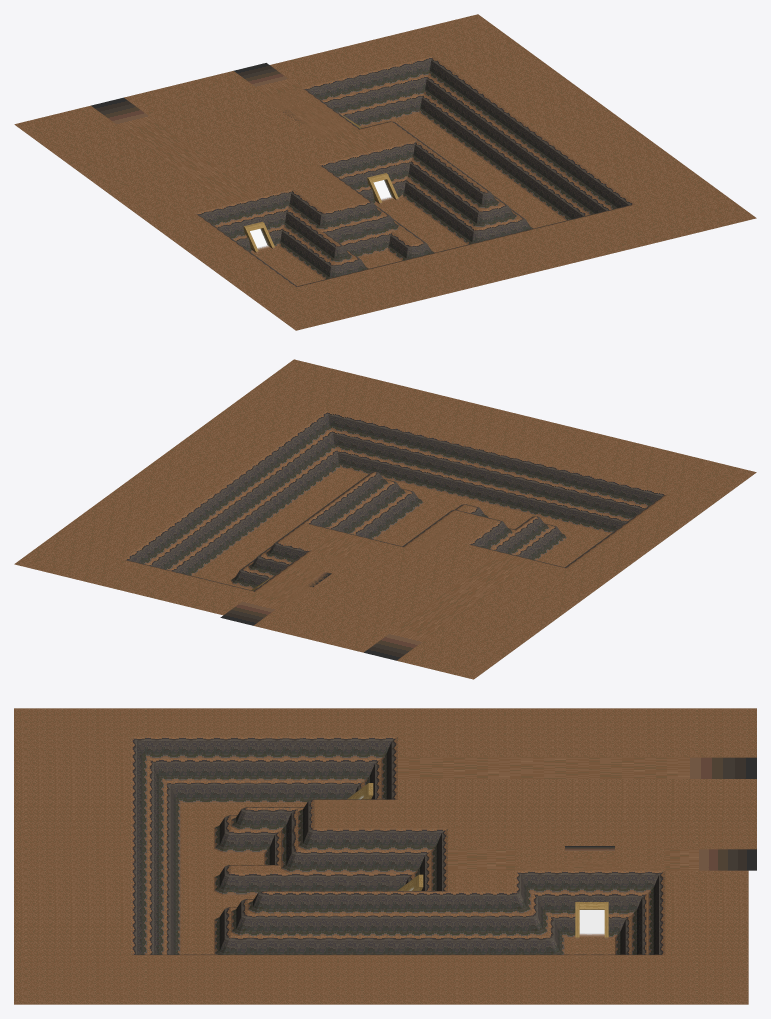
The picture shows the model from 3 angles, top to bottom: view 1: azimuth 30°, elevation 25°; view 2: azimuth 150°, elevation 25°; view 3: azimuth 270°, elevation 25°; orthographic projection. The views are drawn at different scales.
Visible parts, largest first — view 1: polygon0, polygon1, polygon2, polygon6, polygon3; view 2: polygon0, polygon1, polygon2, polygon6; view 3: polygon0, polygon1, polygon2, polygon6, polygon3, polygon5.
Part boxes in pixels (x1=…): polygon0: x1=14, y1=14, x2=756, y2=330; polygon1: x1=201, y1=60, x2=628, y2=279; polygon2: x1=194, y1=56, x2=635, y2=287; polygon6: x1=91, y1=63, x2=383, y2=205; polygon3: x1=243, y1=115, x2=399, y2=252; polygon0: x1=14, y1=359, x2=756, y2=679; polygon1: x1=130, y1=415, x2=661, y2=588; polygon2: x1=123, y1=411, x2=667, y2=591; polygon6: x1=220, y1=531, x2=532, y2=660; polygon0: x1=14, y1=708, x2=756, y2=1004; polygon1: x1=137, y1=741, x2=658, y2=954; polygon2: x1=131, y1=736, x2=665, y2=955; polygon6: x1=398, y1=757, x2=756, y2=870; polygon3: x1=347, y1=783, x2=608, y2=939; polygon5: x1=579, y1=910, x2=604, y2=936.
Bounding box in the file's own units: 10.5 × 0.75 × 11.12.
Materials: 7 (7 with a texture image).
